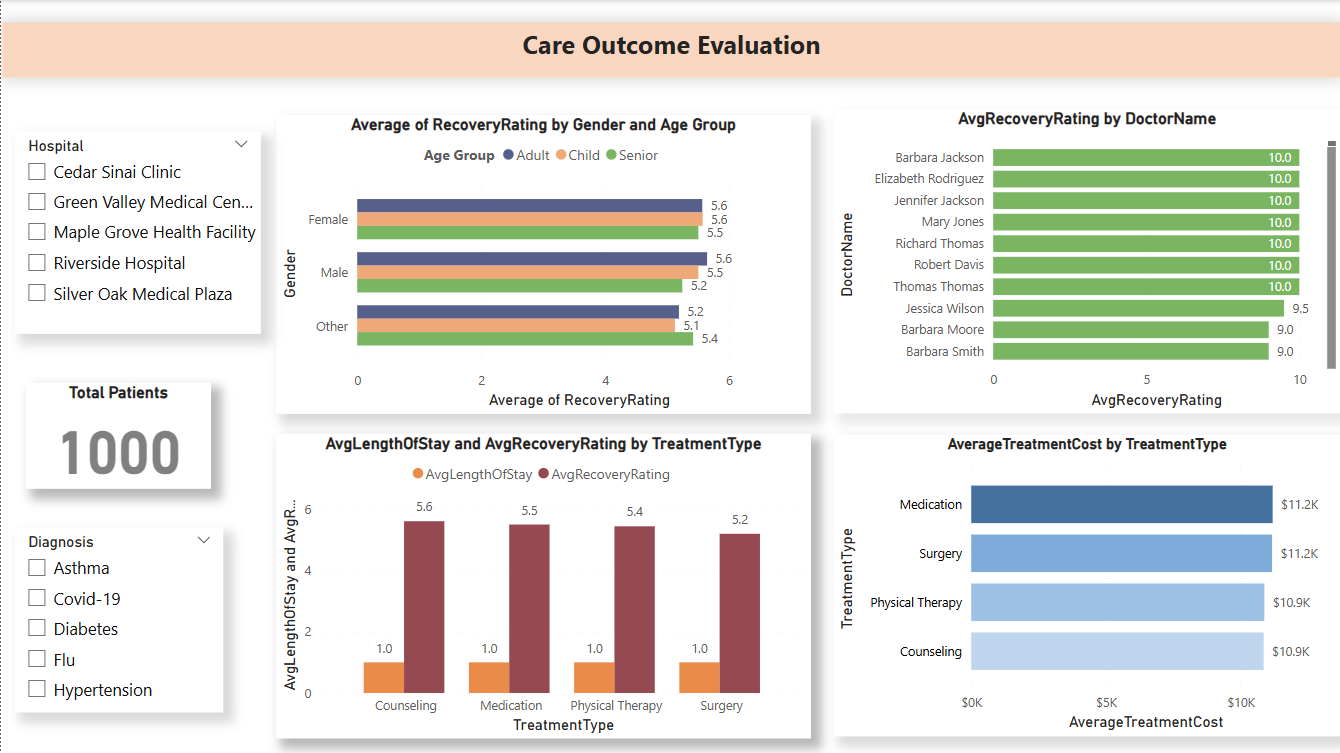

Layout of this report page (visuals, bound fields, positions):
{"tool":"powerbi","page":{"name":"Care Outcome Evaluation","canvas":[1280,720],"ordinal":1},"visuals":[{"type":"clusteredBarChart","fields":{"Category":["Sheet1.TreatmentType"],"Y":["Sheet1.AverageTreatmentCost"]},"box":[795.5,415.7,484.9,287.9],"z":0},{"type":"clusteredBarChart","fields":{"Category":["Sheet1.Gender"],"Y":["Avg(Sheet1.RecoveryRating)"],"Series":["Sheet1.Age Group"]},"box":[262.8,109.9,511.2,285.5],"z":1000},{"type":"clusteredBarChart","fields":{"Category":["Sheet1.DoctorName"],"Y":["Sheet1.AvgRecoveryRating"]},"box":[795.5,103.9,484.9,291.4],"z":2000},{"type":"clusteredColumnChart","fields":{"Category":["Sheet1.TreatmentType"],"Y":["Sheet1.AvgLengthOfStay","Sheet1.AvgRecoveryRating"]},"box":[262.8,414.5,511.2,291.4],"z":3000},{"type":"slicer","fields":{"Values":["Sheet1.Hospital"]},"box":[13.1,125.4,235.3,193.5],"z":4000},{"type":"slicer","fields":{"Values":["Sheet1.Diagnosis"]},"box":[13.1,504.1,199.5,176.8],"z":5000},{"type":"card","title":"Total Patients ","fields":{"Values":["CountNonNull(Sheet1.PatientID)"]},"box":[23.9,365.5,176.8,101.5],"z":6000},{"type":"textbox","box":[0.9,21.5,1278.8,52.8],"z":7000}]}

Visuals, with their boxes in screenshot pixels (x1, y1, x2, y2), scaled from the page's 1280x720 canvas onto the 1340x753 screenshot:
clusteredBarChart - Sheet1.TreatmentType x Sheet1.AverageTreatmentCost: (833, 435, 1339, 736)
clusteredBarChart - Sheet1.Gender x Avg(Sheet1.RecoveryRating): (275, 115, 810, 414)
clusteredBarChart - Sheet1.DoctorName x Sheet1.AvgRecoveryRating: (833, 109, 1339, 413)
clusteredColumnChart - Sheet1.TreatmentType x Sheet1.AvgLengthOfStay: (275, 433, 810, 738)
slicer - Sheet1.Hospital: (14, 131, 260, 334)
slicer - Sheet1.Diagnosis: (14, 527, 223, 712)
"Total Patients " card: (25, 382, 210, 488)
textbox: (1, 22, 1339, 78)
